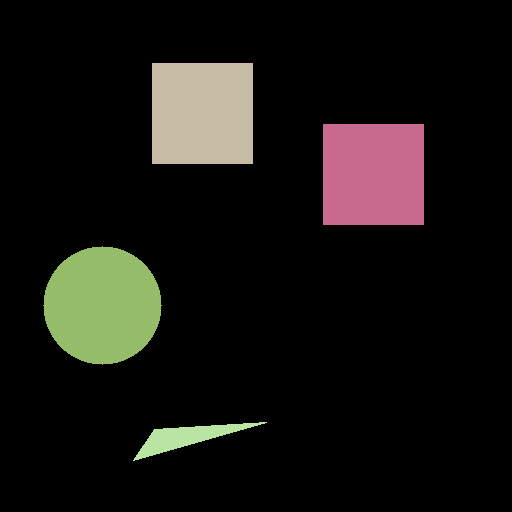circle: (43, 246, 161, 364)
square: (323, 124, 423, 224), (152, 63, 252, 163)
triangle: (133, 422, 266, 460)
